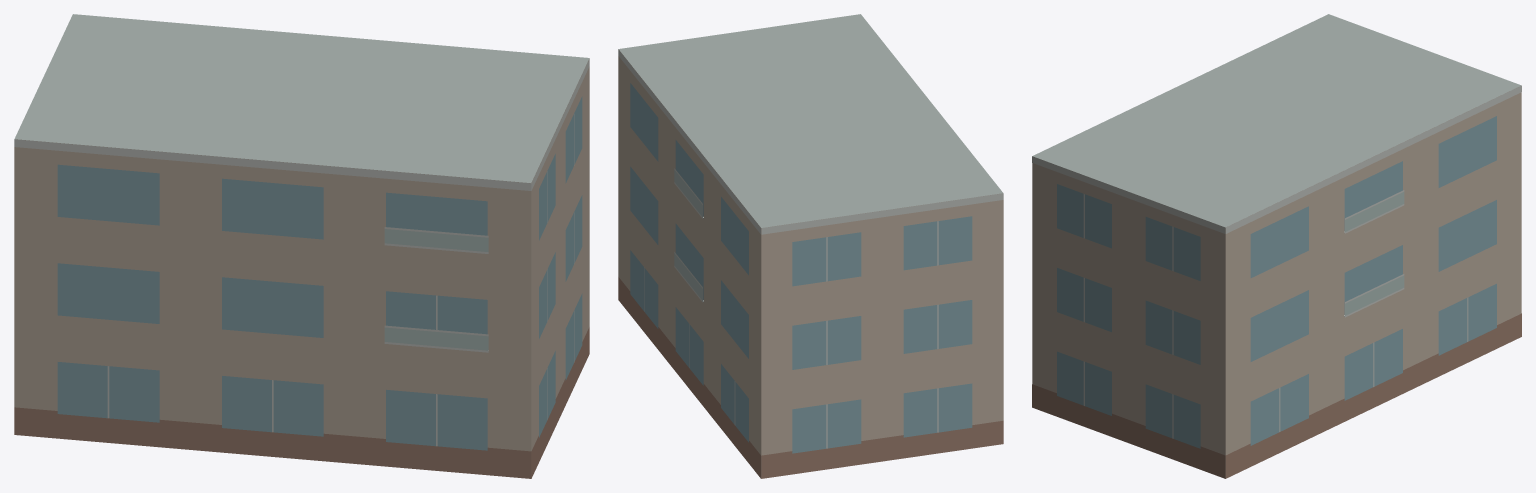
The model's file is survey-upis-32914186.glb.
3 views of the same model, side by side, from view 1: azimuth 30°, elevation 25°; view 2: azimuth 150°, elevation 25°; view 3: azimuth 270°, elevation 25° (orthographic). The views are drawn at different scales.
Parts seen in each view (by area): view 1: survey-upis-32914186.tmp; view 2: survey-upis-32914186.tmp; view 3: survey-upis-32914186.tmp.
Boxes of the visible parts, bbox=[...] form: survey-upis-32914186.tmp: bbox=[14, 14, 589, 478]; survey-upis-32914186.tmp: bbox=[618, 14, 1003, 478]; survey-upis-32914186.tmp: bbox=[1032, 14, 1521, 478].
Size of the model in its own units: 16.67 by 9.15 by 16.16.
